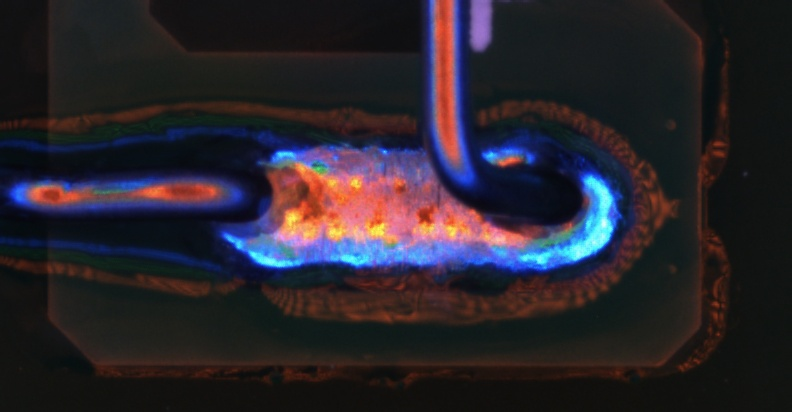offset: (201, 129, 630, 281)
spring: (1, 169, 274, 220)
spring_offset: (418, 1, 583, 224)
